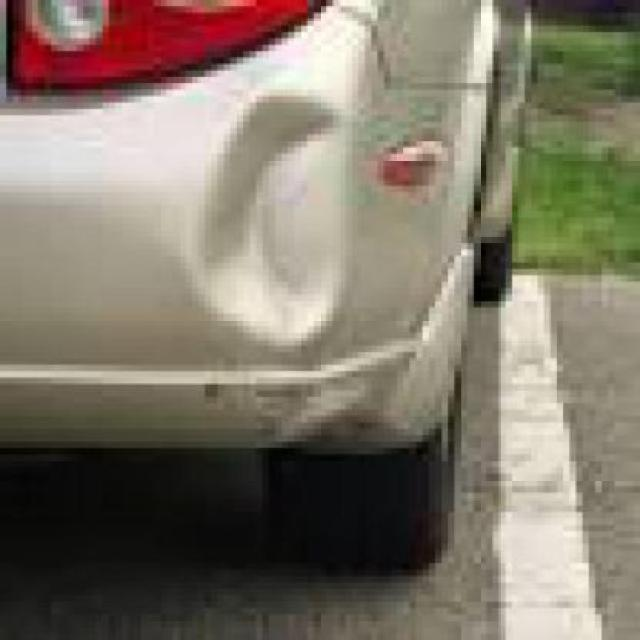rear-bumper-dent: (170, 77, 355, 354)
